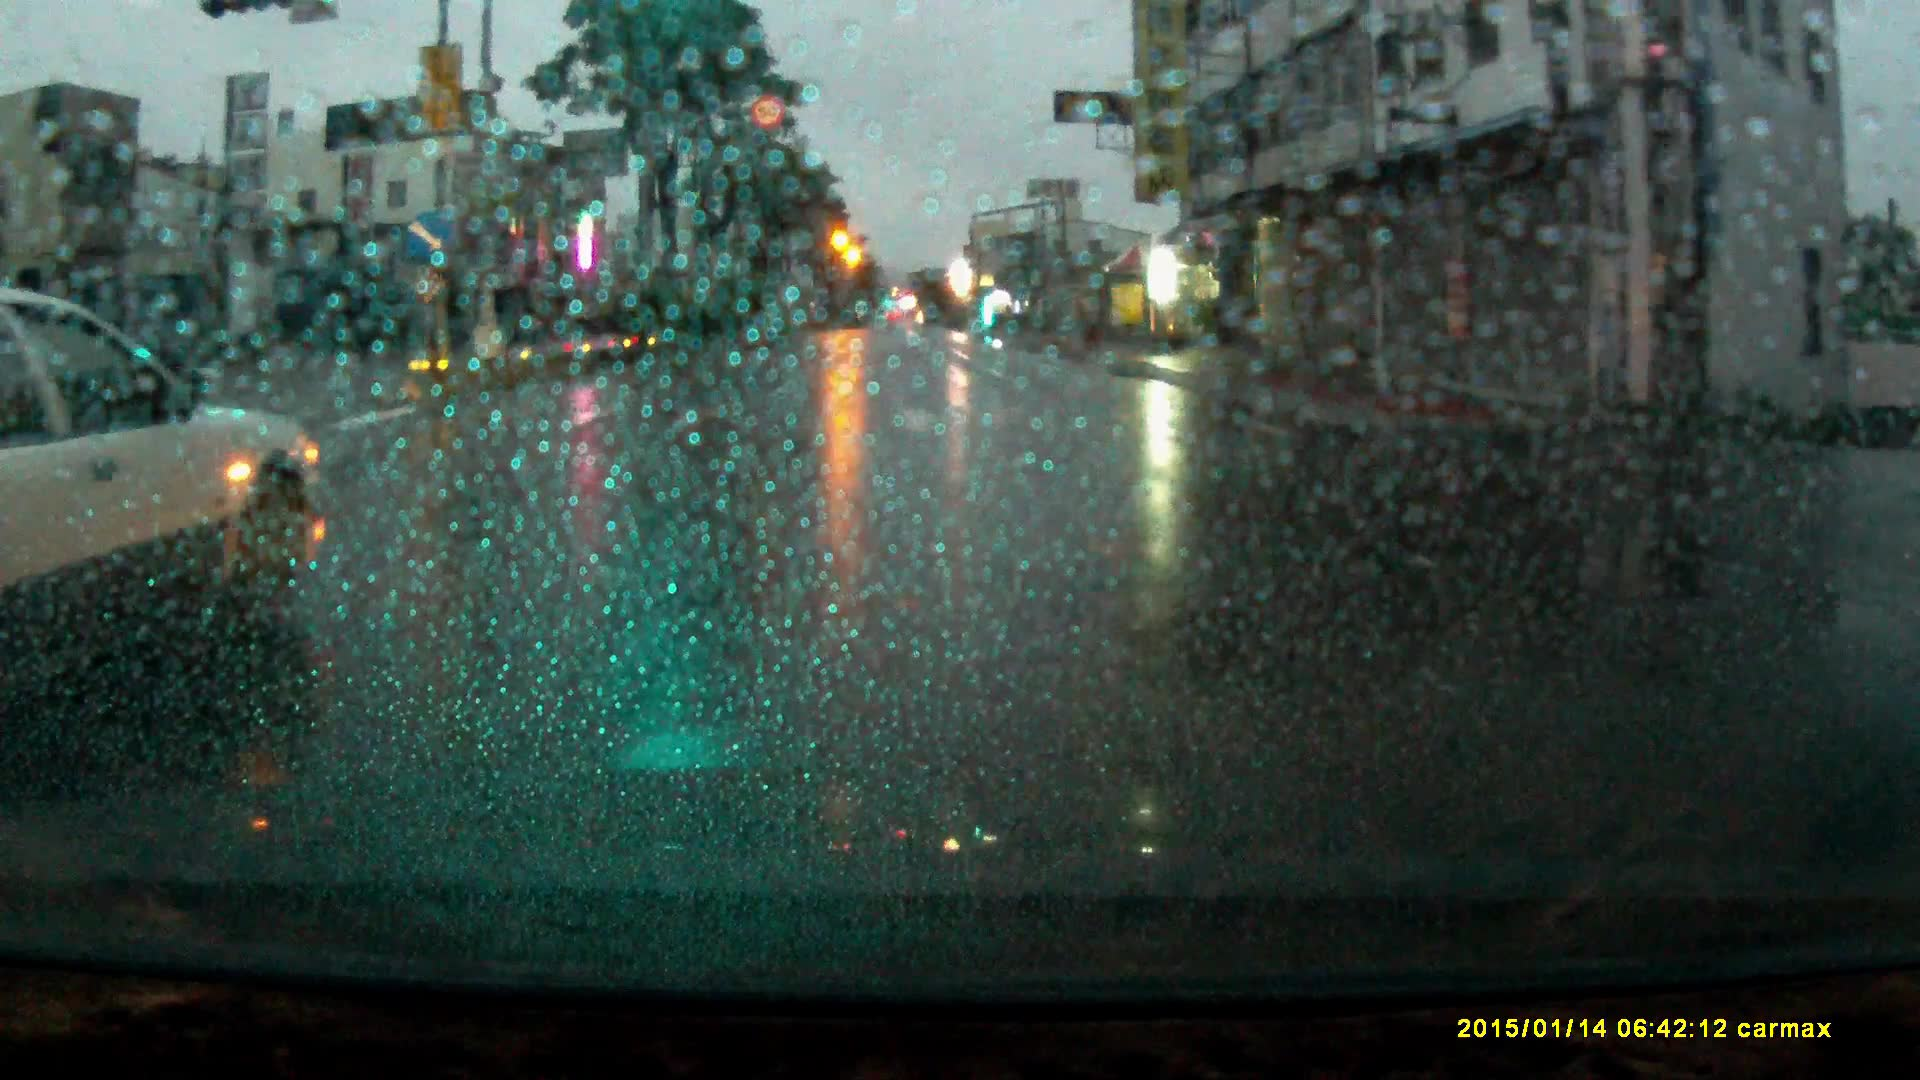vehicle: (1, 289, 328, 667)
